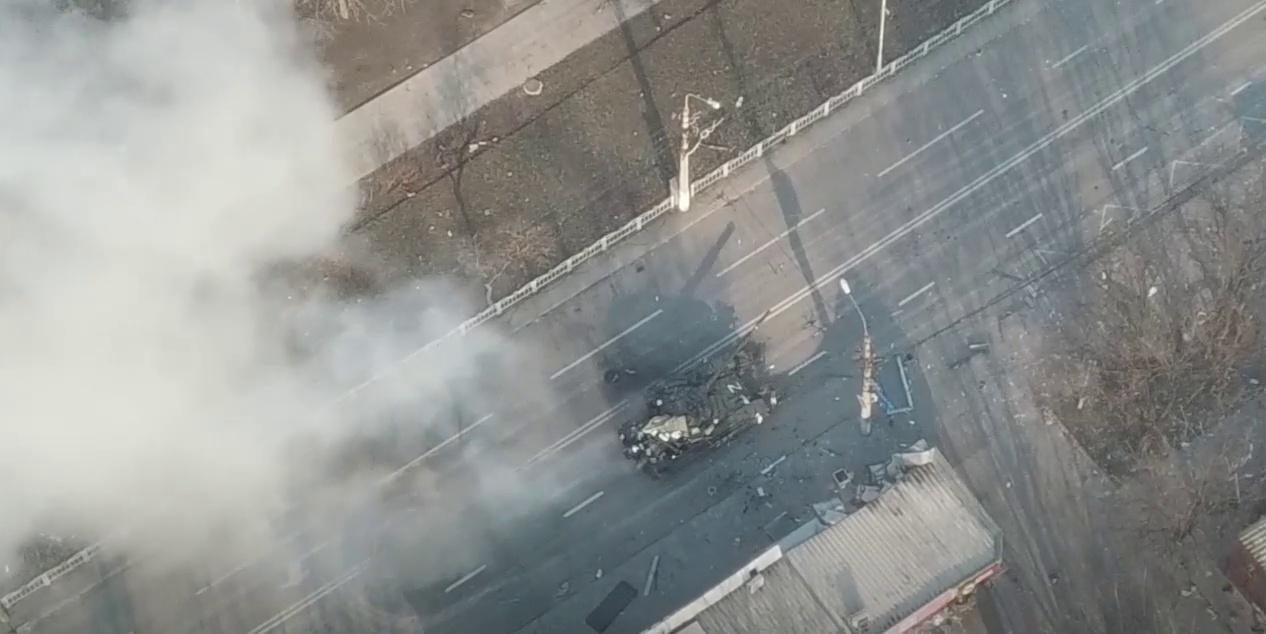tank: (618, 309, 773, 482)
